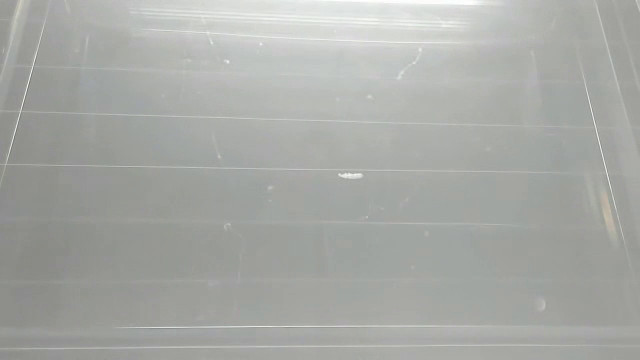alpha: (332, 167, 370, 185)
